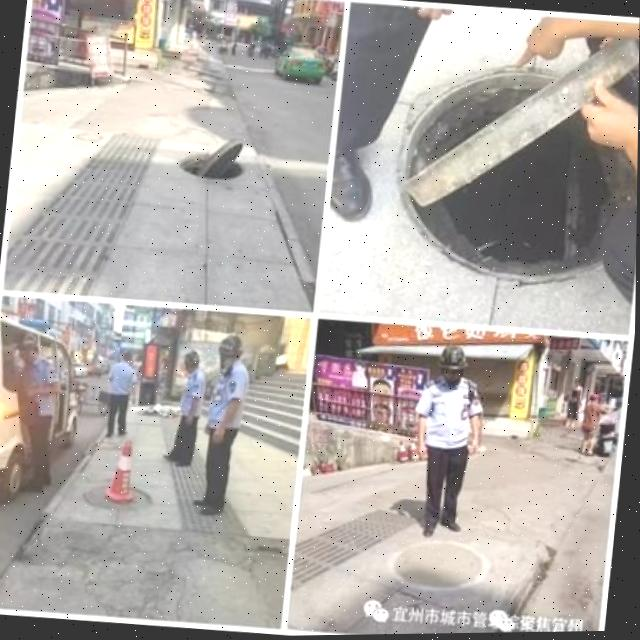manhole: (370, 46, 636, 295), (166, 131, 251, 188)
